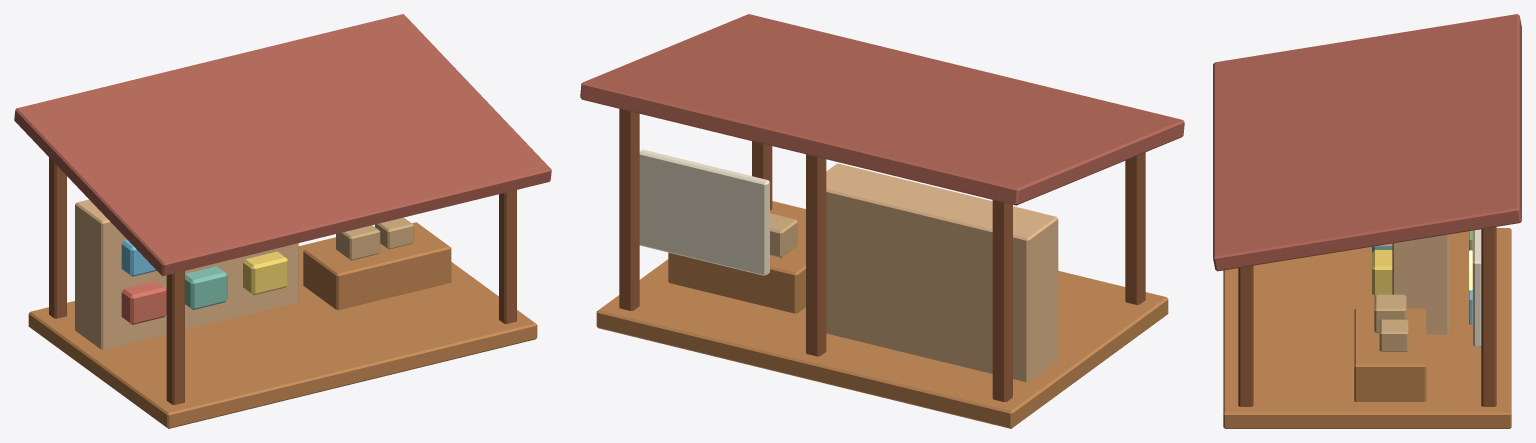
Rendered from F20-mailbox-gallery.glb.
3 views of the same model, side by side, from view 1: azimuth 30°, elevation 25°; view 2: azimuth 150°, elevation 25°; view 3: azimuth 270°, elevation 25° (orthographic). The views are drawn at different scales.
Parts seen in each view (by area): view 1: Slanted_Roof, warm_cedar, Cubby_Rack, toasted_wood, kraft_paper, Mailbox_2, coral_red, Mailbox_1, sea_blue; view 2: Slanted_Roof, warm_cedar, Cubby_Rack, toasted_wood, ivory_trim, kraft_paper; view 3: Slanted_Roof, warm_cedar, toasted_wood, Cubby_Rack, kraft_paper, ivory_trim, Mailbox_2.
Part boxes in pixels (bbox=[...]): Slanted_Roof: bbox=[14, 14, 551, 276]; warm_cedar: bbox=[28, 222, 537, 428]; Cubby_Rack: bbox=[75, 199, 298, 349]; toasted_wood: bbox=[49, 157, 516, 404]; kraft_paper: bbox=[336, 217, 413, 260]; Mailbox_2: bbox=[243, 251, 288, 295]; coral_red: bbox=[121, 281, 166, 324]; Mailbox_1: bbox=[185, 266, 227, 309]; sea_blue: bbox=[121, 240, 156, 276]; Slanted_Roof: bbox=[580, 14, 1184, 205]; warm_cedar: bbox=[596, 201, 1168, 428]; Cubby_Rack: bbox=[826, 163, 1058, 382]; toasted_wood: bbox=[619, 109, 1145, 401]; ivory_trim: bbox=[639, 149, 769, 275]; kraft_paper: bbox=[770, 213, 797, 257]; Slanted_Roof: bbox=[1213, 14, 1521, 271]; warm_cedar: bbox=[1223, 228, 1511, 428]; toasted_wood: bbox=[1238, 227, 1496, 406]; Cubby_Rack: bbox=[1392, 234, 1448, 334]; kraft_paper: bbox=[1374, 294, 1408, 351]; ivory_trim: bbox=[1374, 229, 1481, 347]; Mailbox_2: bbox=[1372, 250, 1392, 295].
Size of the model in its own units: 6.1 by 3.28 by 4.07.
